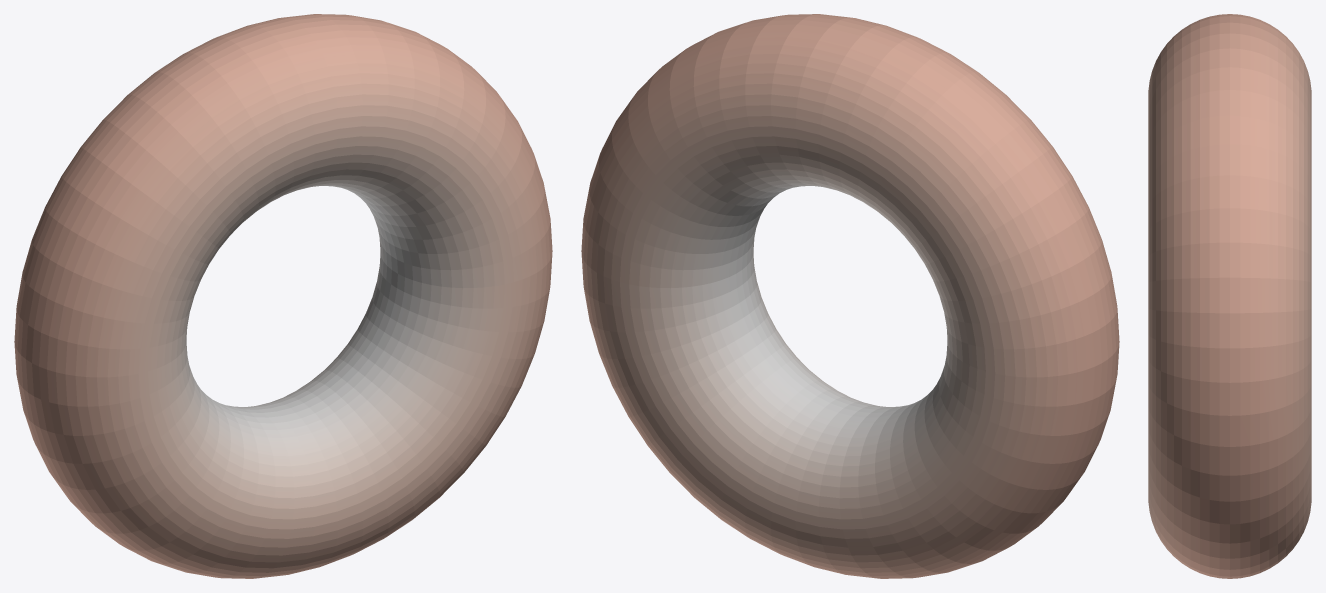
The picture shows the model from 3 angles, left to right: view 1: azimuth 30°, elevation 25°; view 2: azimuth 150°, elevation 25°; view 3: azimuth 270°, elevation 25°; orthographic projection. The views are drawn at different scales.
Parts seen in each view (by area): view 1: world; view 2: world; view 3: world.
Boxes of the visible parts, x1,y1,x2,y2 form: world: [14, 14, 552, 578]; world: [581, 14, 1119, 578]; world: [1148, 14, 1311, 578].
Bounding box in the file's own units: 26.27 × 26.21 × 7.59.
